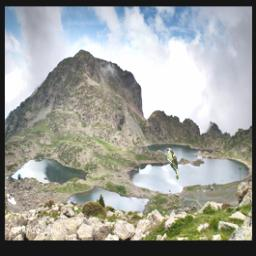Cuckoo: (164, 147, 180, 180)
